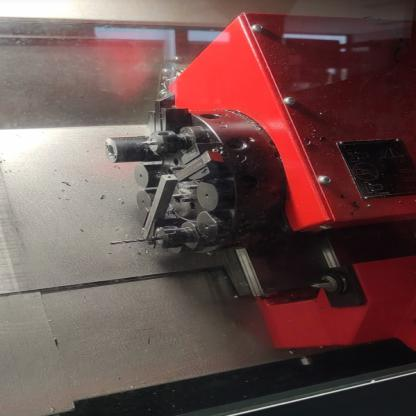bit: (134, 170, 183, 251), (141, 88, 193, 157), (172, 140, 232, 185)
